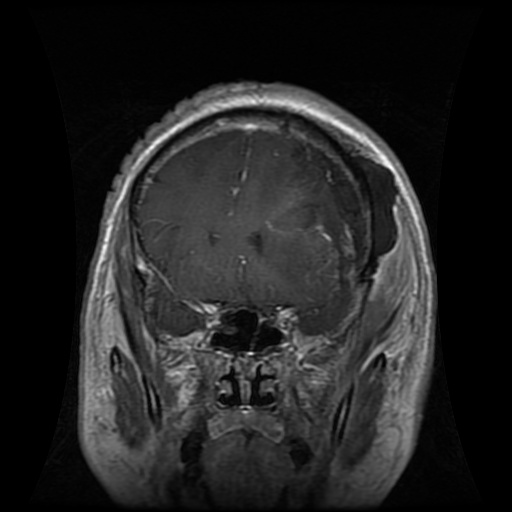glioma: (294, 142, 371, 281)
